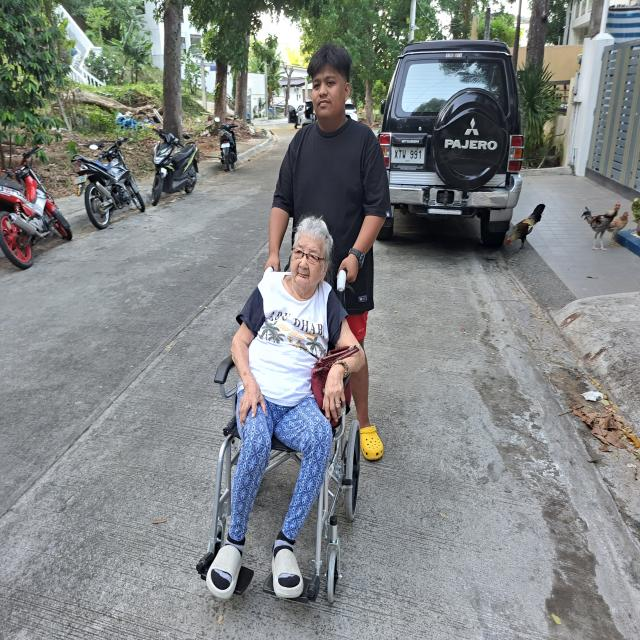wheelchairs: (195, 261, 362, 607)
